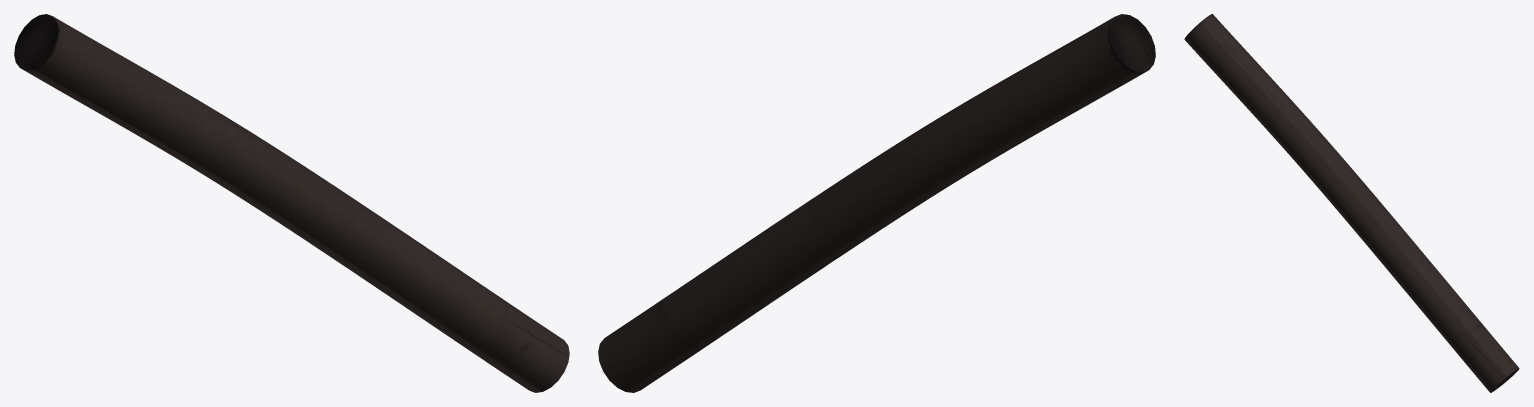
Rendered from base__left_leg.glb.
3 views of the same model, side by side, from view 1: azimuth 30°, elevation 25°; view 2: azimuth 150°, elevation 25°; view 3: azimuth 330°, elevation 25° (orthographic). The views are drawn at different scales.
Parts seen in each view (by area): view 1: world; view 2: world; view 3: world.
Boxes of the visible parts, x1,y1,x2,y2 form: world: (14, 14, 569, 392); world: (598, 14, 1155, 392); world: (1184, 14, 1519, 392).
Size of the model in its own units: 0.2616 by 0.225 by 0.0336.
Materials: 1 (1 with a texture image).
